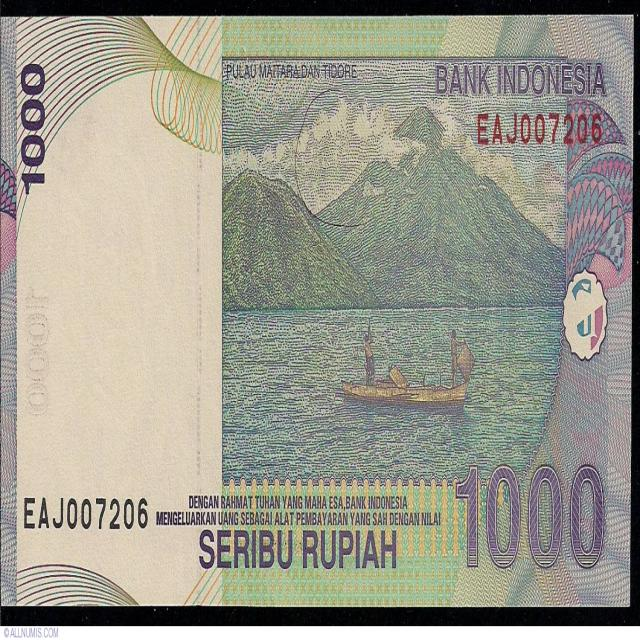seribu rupiah: (1, 16, 630, 608)
